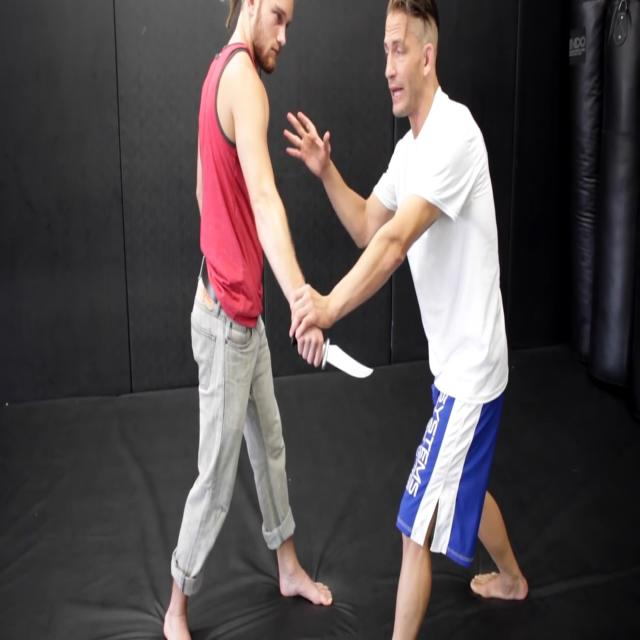knife: (324, 334, 378, 388)
